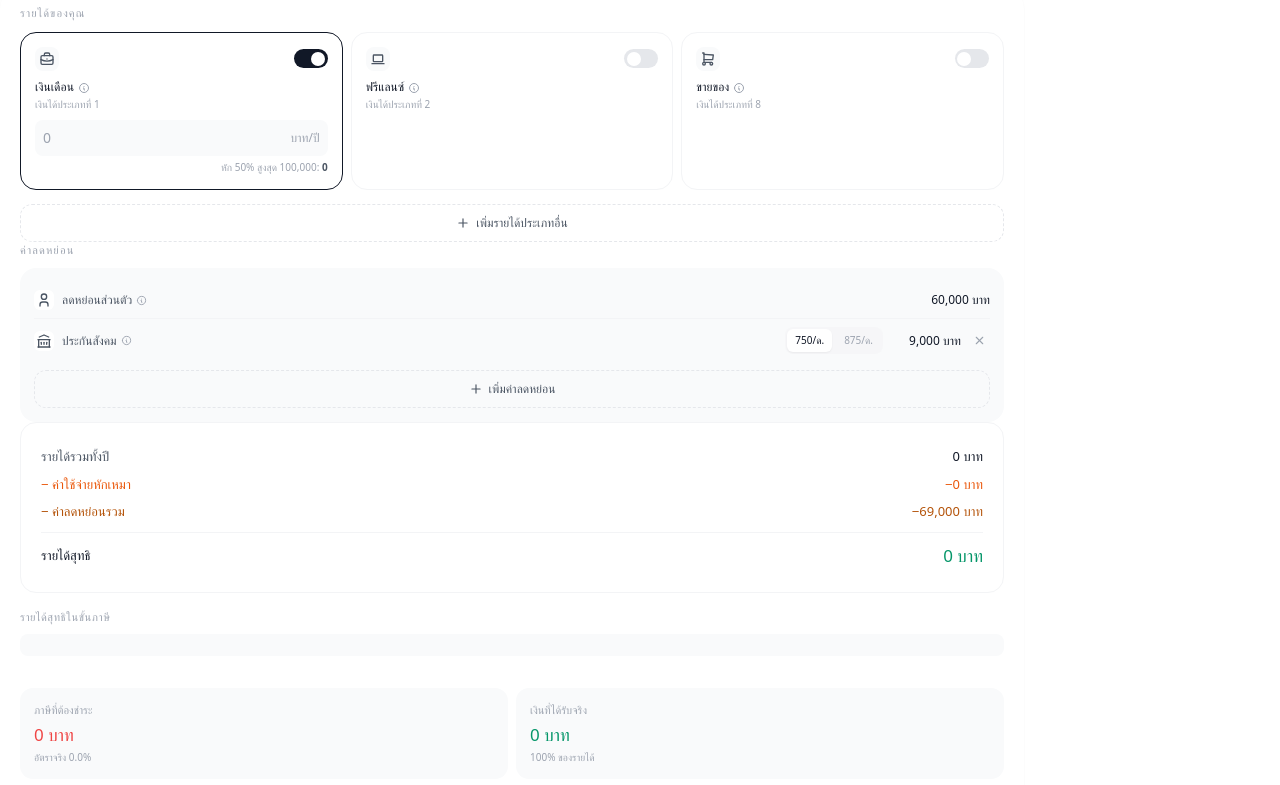
Test case: TaxCard Component › calculates net income and tax payable correctly after salary input
Type "1,000,000" into the field with placeholder "0". click: [164, 138]
box: [43, 128, 284, 148]
(page scrolled)
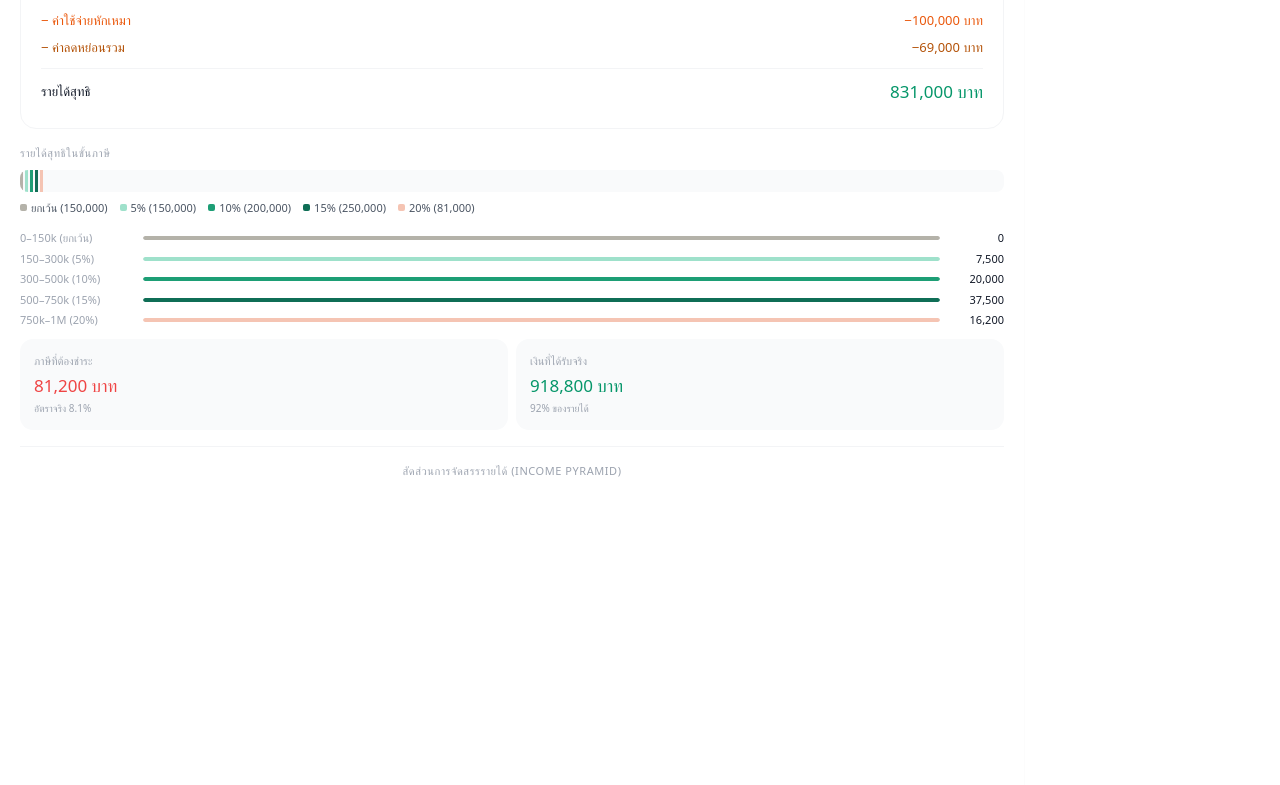
expect the text "831,000 บาท" is shown: met, box [890, 78, 983, 104]
expect the text "81,200 บาท" is shown: met, box [34, 374, 117, 397]
